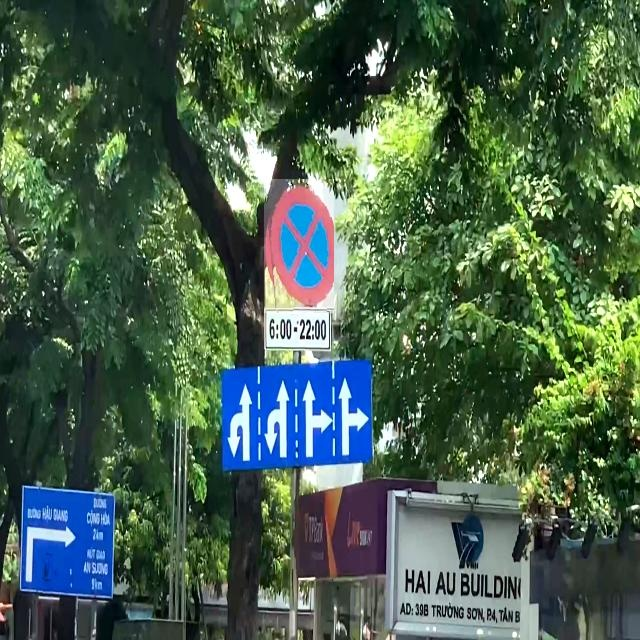bien_cam: (264, 179, 334, 313)
